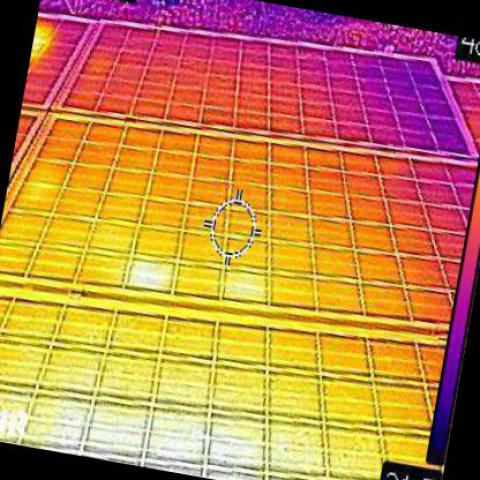fault: (128, 259, 170, 284)
